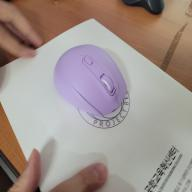mouse: (52, 44, 127, 116)
